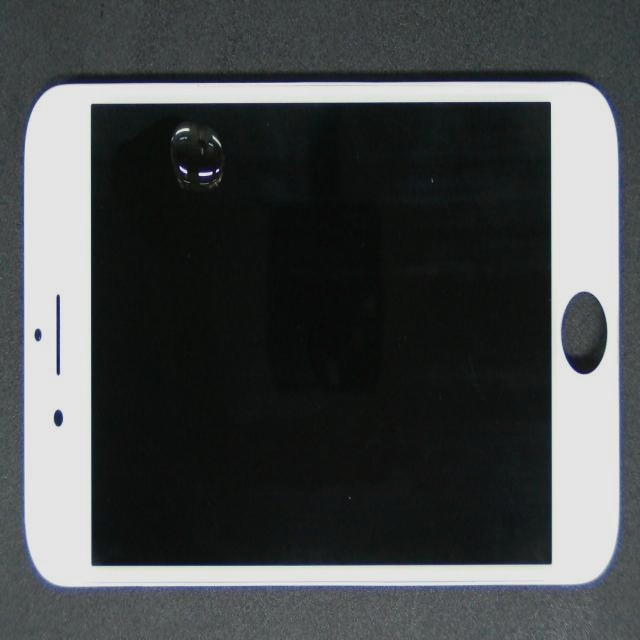oil: (112, 121, 337, 254)
